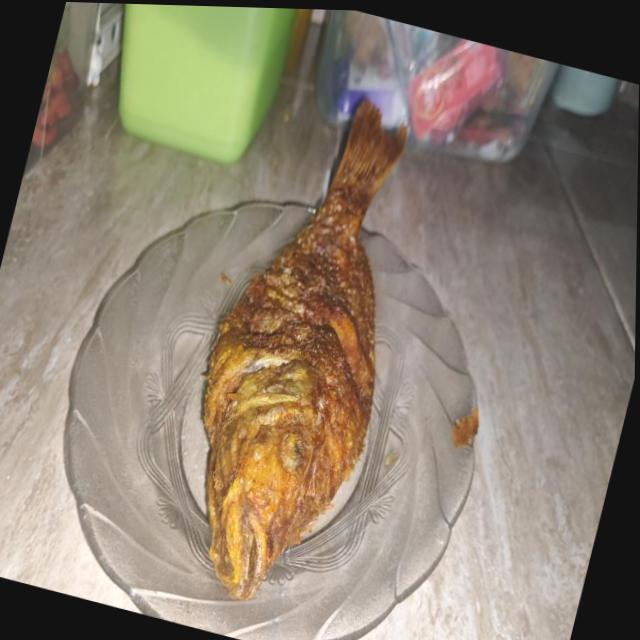ikan_mujair: (204, 100, 406, 599)
